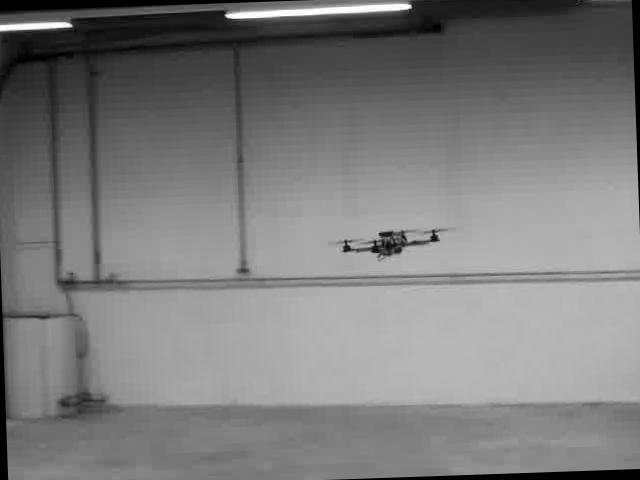drone: (332, 223, 446, 260)
